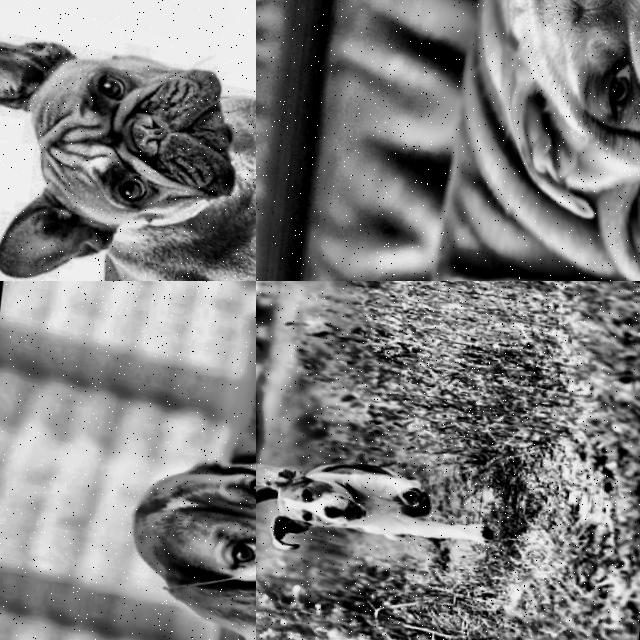beagle: (93, 419, 256, 640), (256, 442, 380, 567)
bulldog: (0, 0, 256, 281), (430, 0, 640, 271)
